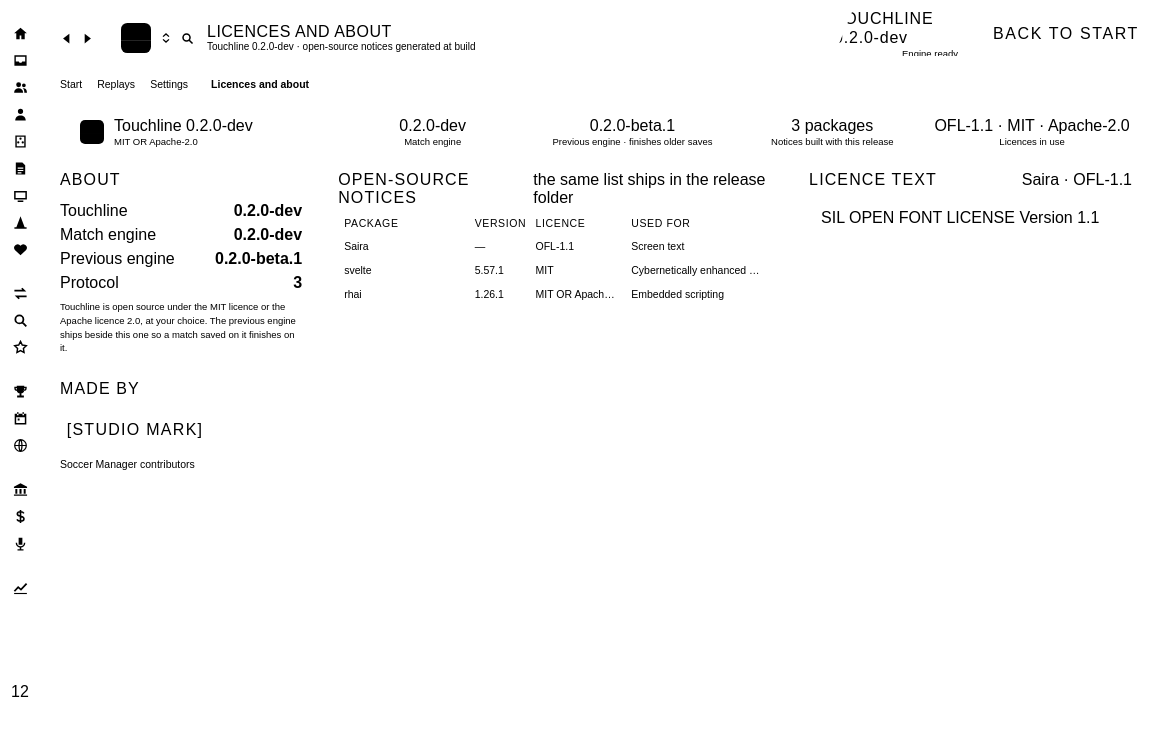
licences and about list the notices file and show the chosen licence text
The image size is (1164, 732).
Click the button "rhai". click: (403, 294)
box: [344,282,463,306]
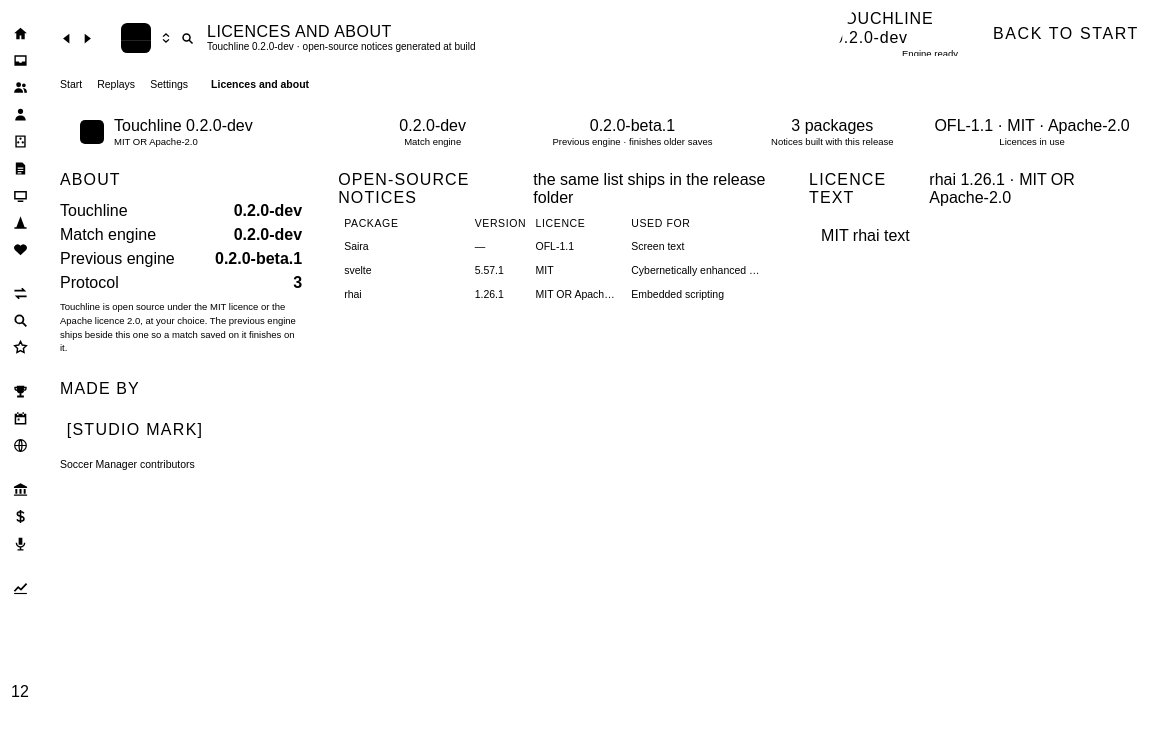
Expected: the text "3 packages" is shown, [791,117,873,134]
Expected: the text "MIT rhai text" is shown, [821,227,910,244]
